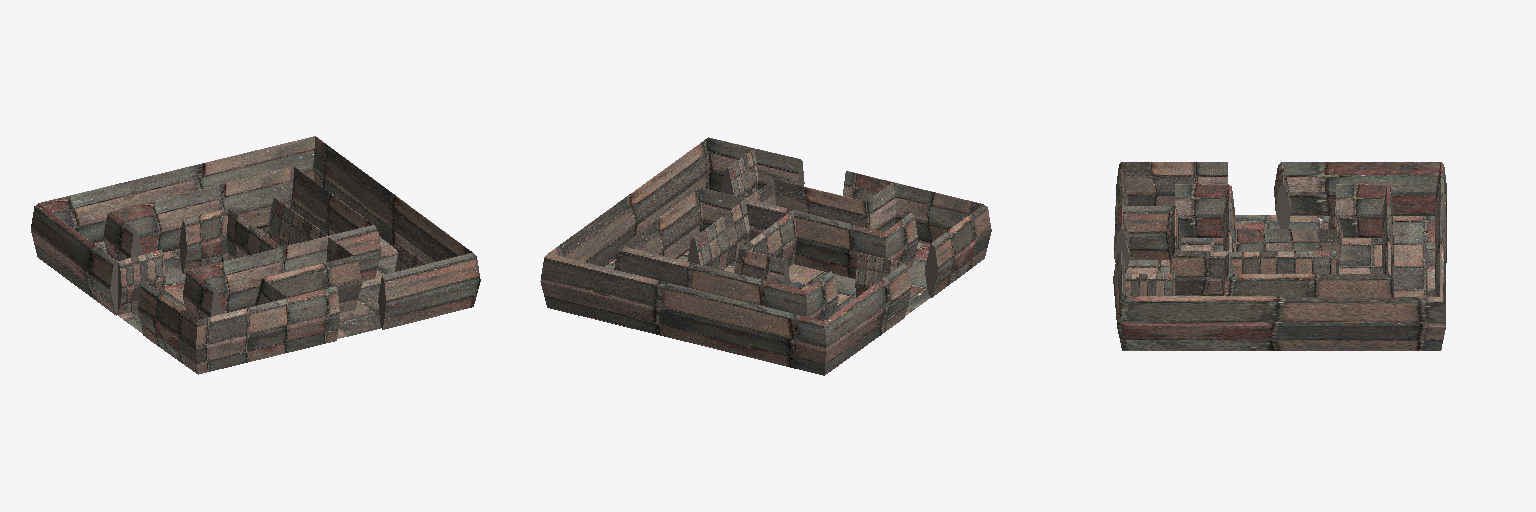
3 renders of one model, left to right at view 1: azimuth 30°, elevation 25°; view 2: azimuth 150°, elevation 25°; view 3: azimuth 270°, elevation 25°, orthographic.
Parts seen in each view (by area): view 1: Maze; view 2: Maze; view 3: Maze.
Part boxes in pixels (left/top/right/bottom): Maze: left=31, top=136, right=480, bottom=374; Maze: left=540, top=137, right=991, bottom=375; Maze: left=1113, top=162, right=1446, bottom=350.
Bounding box in the file's own units: 6.28 × 1.13 × 6.28.
1 materials, 1 textured.